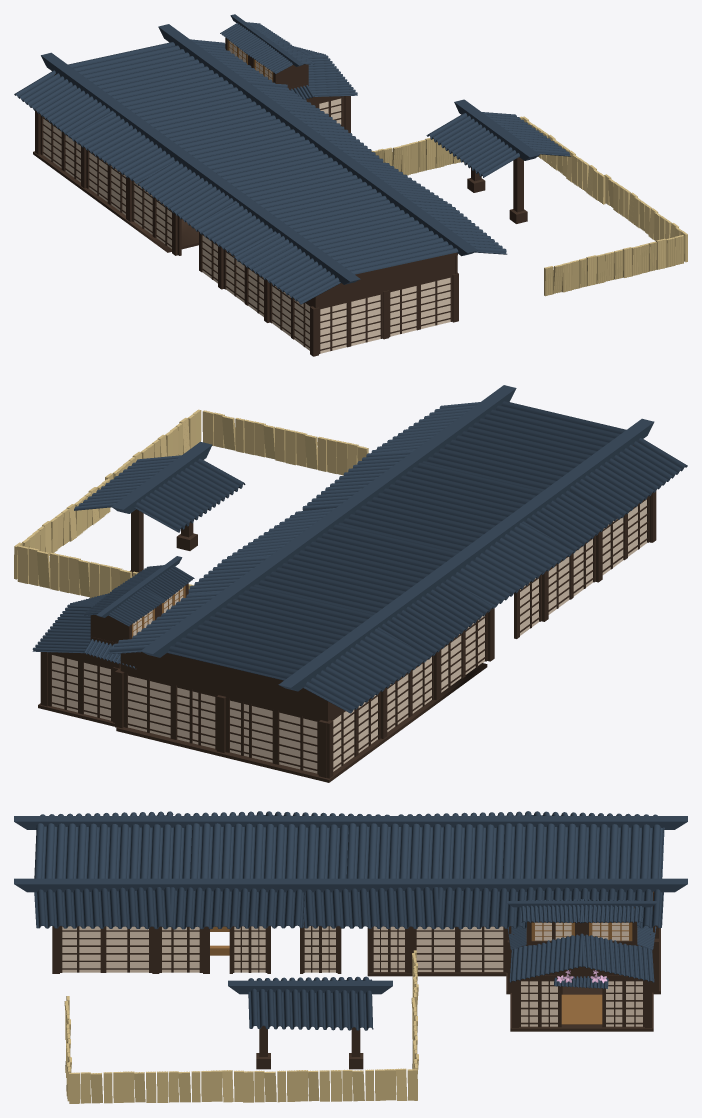
File: BigOnsenHouse 1.fbx
The picture shows the model from 3 angles, top to bottom: view 1: azimuth 30°, elevation 25°; view 2: azimuth 150°, elevation 25°; view 3: azimuth 270°, elevation 25°; orthographic projection. The views are drawn at different scales.
Visible parts, largest first — view 1: BigOnsenHouse, FenceOnsen, SmallRoof; view 2: BigOnsenHouse, FenceOnsen, SmallRoof; view 3: BigOnsenHouse, FenceOnsen, SmallRoof.
Part boxes in pixels (box(x1,y1,x2,y2)): BigOnsenHouse: box(14, 14, 507, 356); FenceOnsen: box(371, 116, 687, 296); SmallRoof: box(426, 99, 571, 223); BigOnsenHouse: box(32, 385, 687, 782); FenceOnsen: box(14, 409, 368, 598); SmallRoof: box(74, 441, 245, 576); BigOnsenHouse: box(14, 811, 687, 1031); FenceOnsen: box(64, 950, 418, 1103); SmallRoof: box(228, 976, 392, 1069).
Size of what is drawn, in the model's own units: 14672 by 3406 by 19271.
